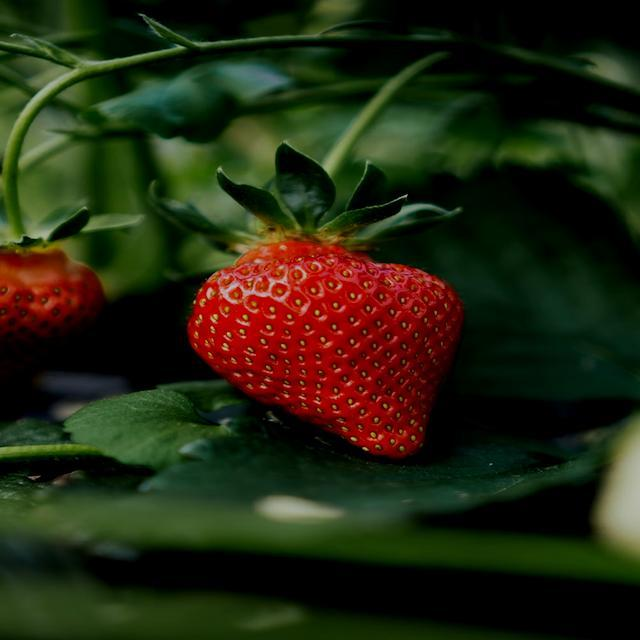strawberry: (188, 239, 464, 458), (0, 248, 104, 378)
